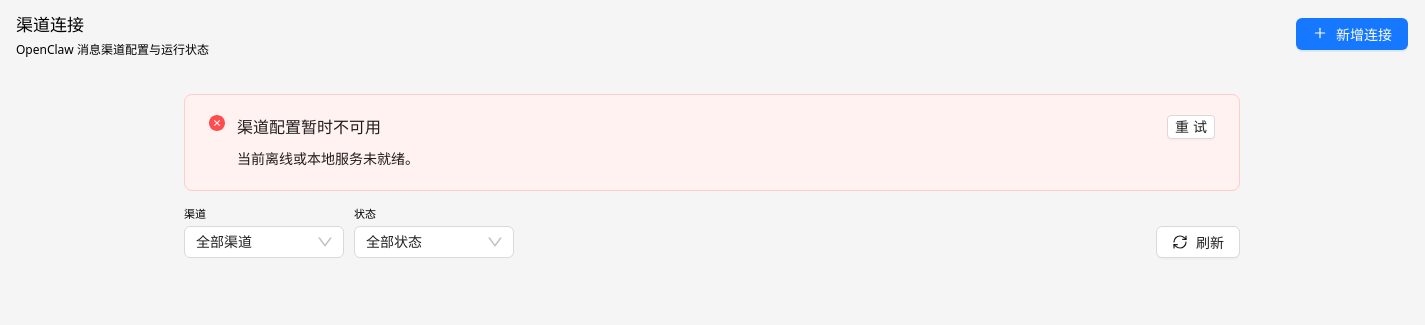
ChannelSettings › supports retry and empty state without leaking bridge errors
The image size is (1425, 325).
Expected: the text "渠道配置暂时不可用" is shown, x1=237 y1=117 x2=381 y2=137
Click the button named "重试加载渠道" at (1191, 127), box x1=1167 y1=115 x2=1215 y2=139
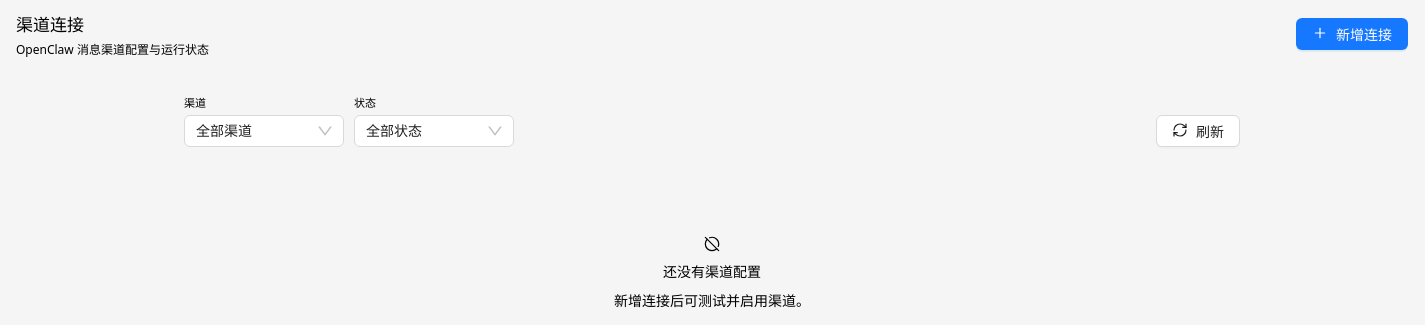
Expected: the text "还没有渠道配置" is shown, x1=663 y1=261 x2=761 y2=281
